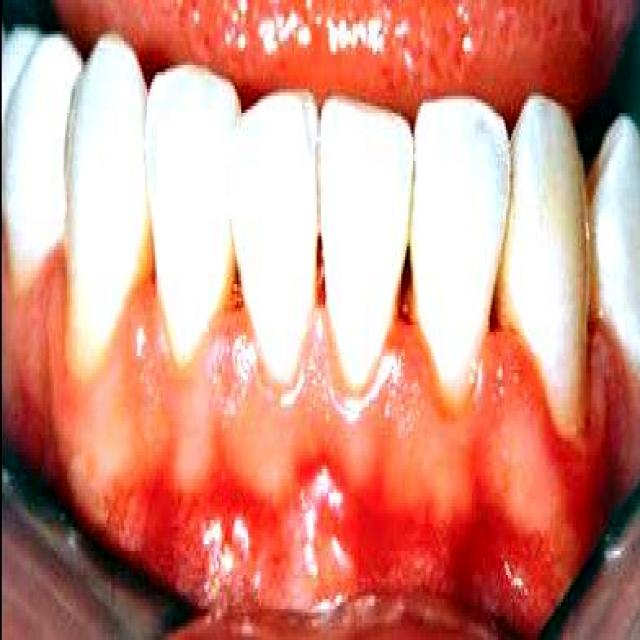gingivitis: (18, 267, 638, 606)
